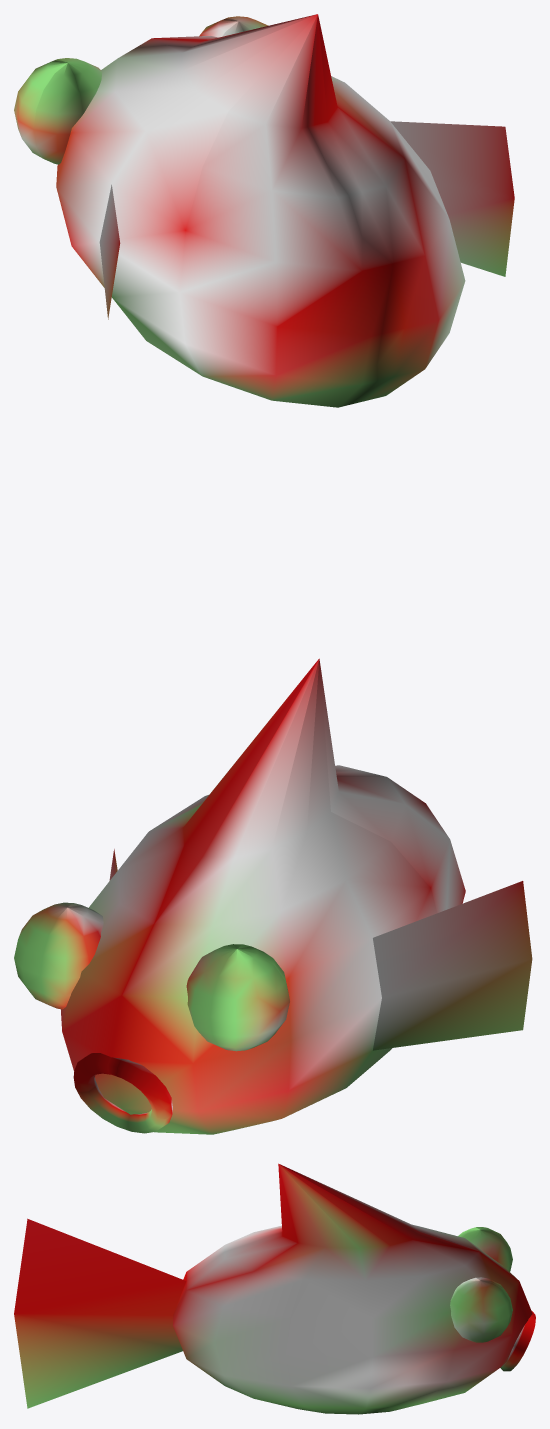
Rendered from protofish.glb.
3 renders of one model, top to bottom at view 1: azimuth 30°, elevation 25°; view 2: azimuth 150°, elevation 25°; view 3: azimuth 270°, elevation 25°, orthographic. The views are drawn at different scales.
Parts seen in each view (by area): view 1: Sphere002; view 2: Sphere002; view 3: Sphere002.
Part boxes in pixels (x1,y1,x2,y2): Sphere002: (14, 14, 514, 407); Sphere002: (14, 658, 532, 1134); Sphere002: (14, 1163, 535, 1414).
Bounding box in the file's own units: 0.7447 × 0.6957 × 1.34.
